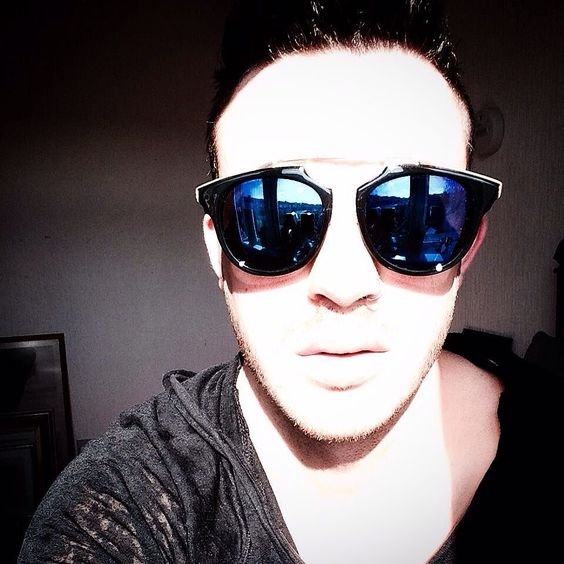sunglasses: (190, 174, 494, 270)
